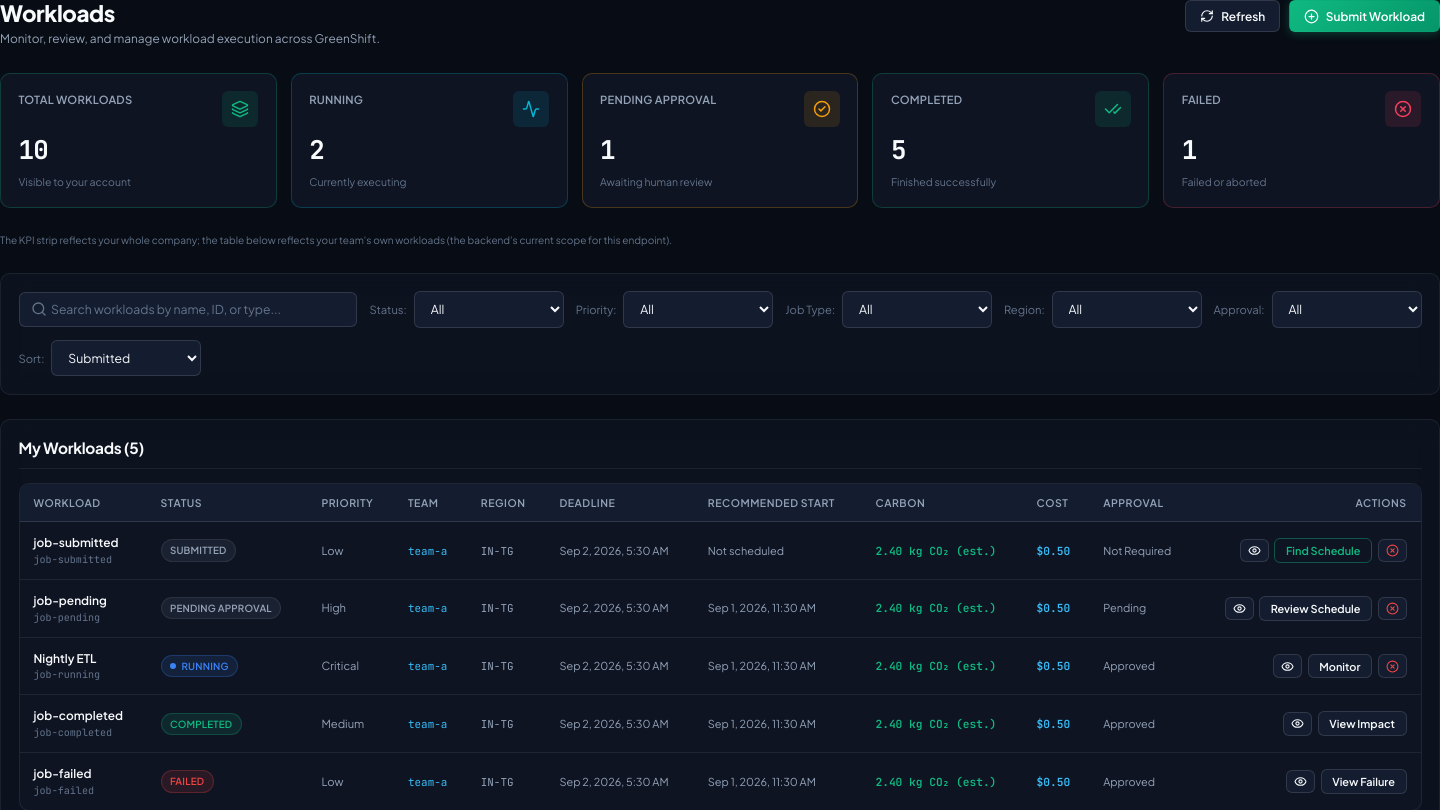
WorkloadsPage › filters by priority
Select "Critical" in the dropdown named "filter by priority" at (698,309), box [623,291,773,328]
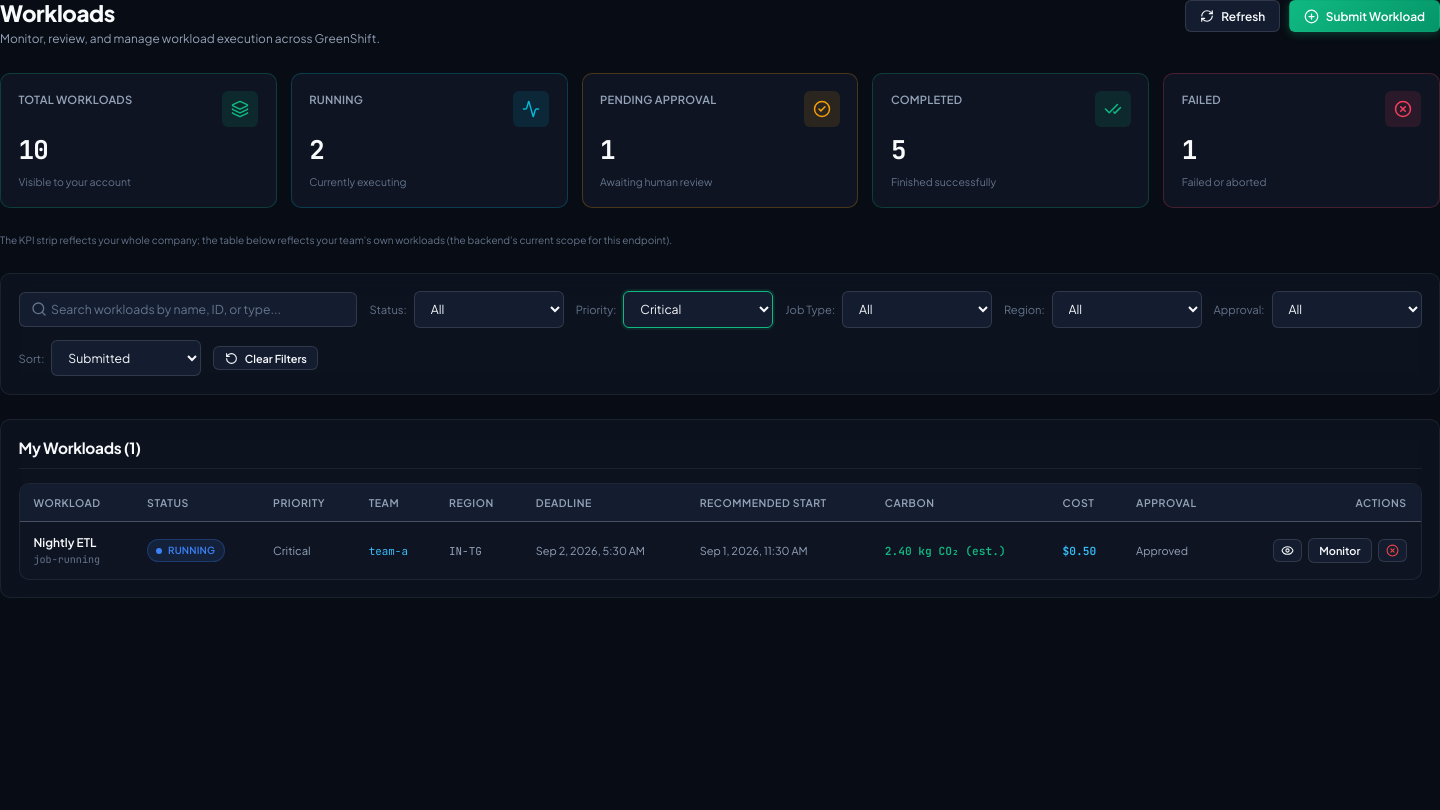
Expected: the text "Nightly ETL" is shown, [34,535,96,550]
Now the text "job-completed" is gone
